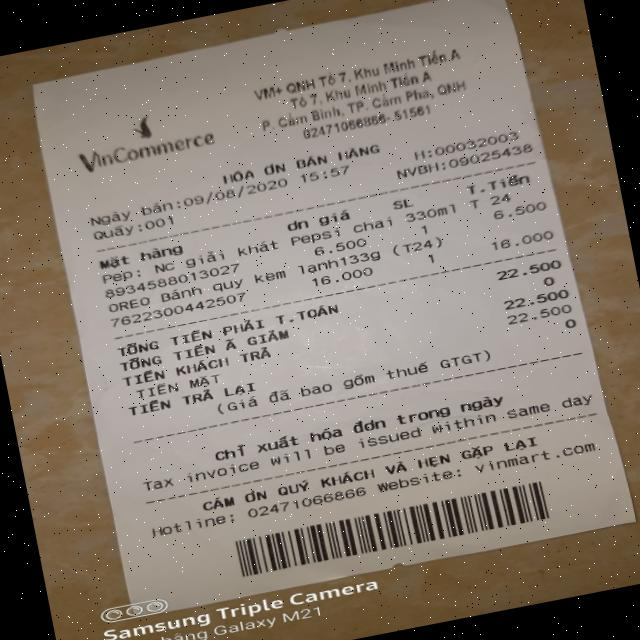Date: (179, 174, 292, 212)
Store_Name: (76, 124, 232, 175)
amount_number: (495, 256, 563, 281)
label_total: (108, 297, 349, 362)
